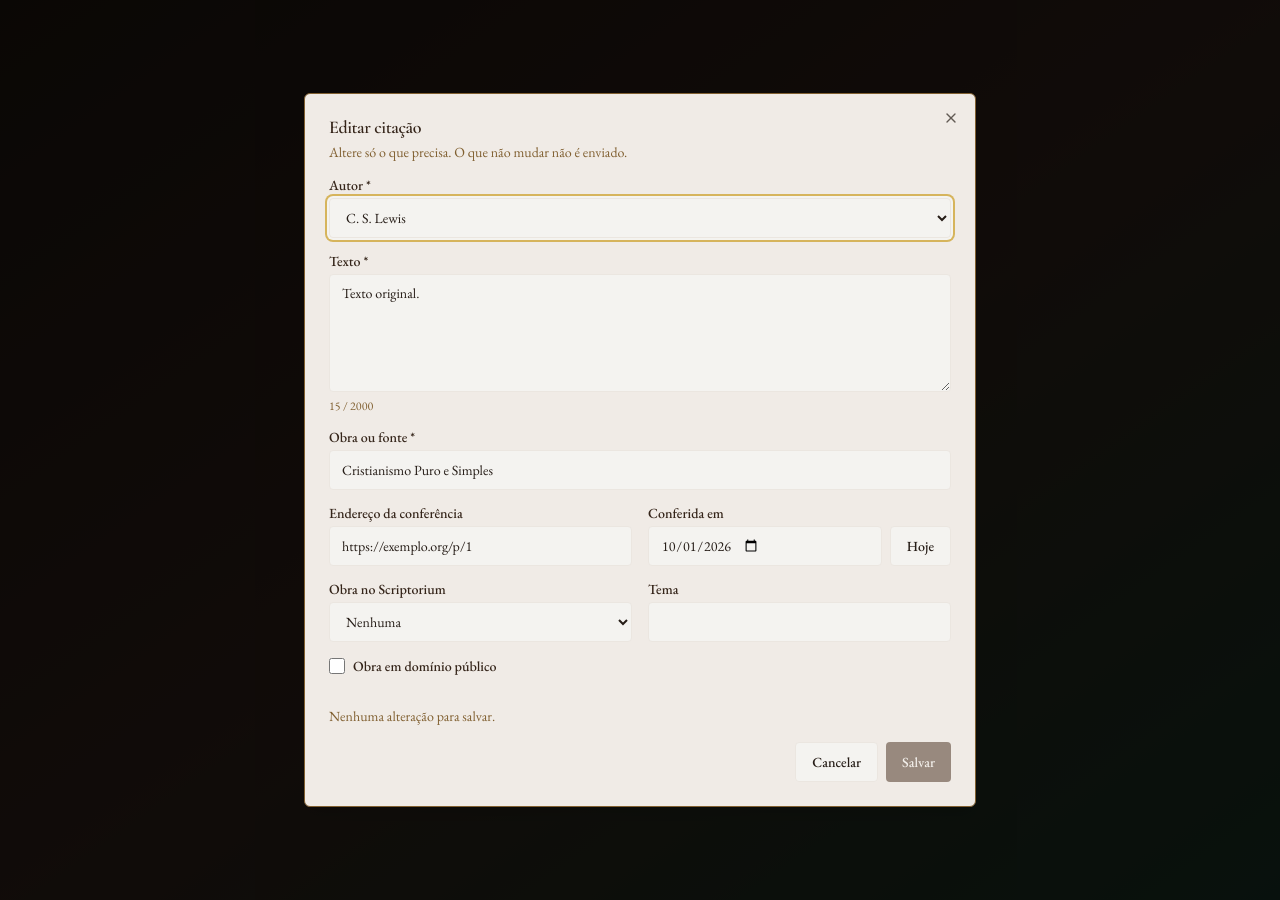
QuoteFormDialog: aviso do Gerador › editar uma Lewis ativa sem mexer em nada não avisa; mudar o texto avisa como "mudar"
The width and height of the screenshot is (1280, 900).
Type " a mais" into the text box labelled "Texto *" at point(640, 333), box [329,274,951,392]
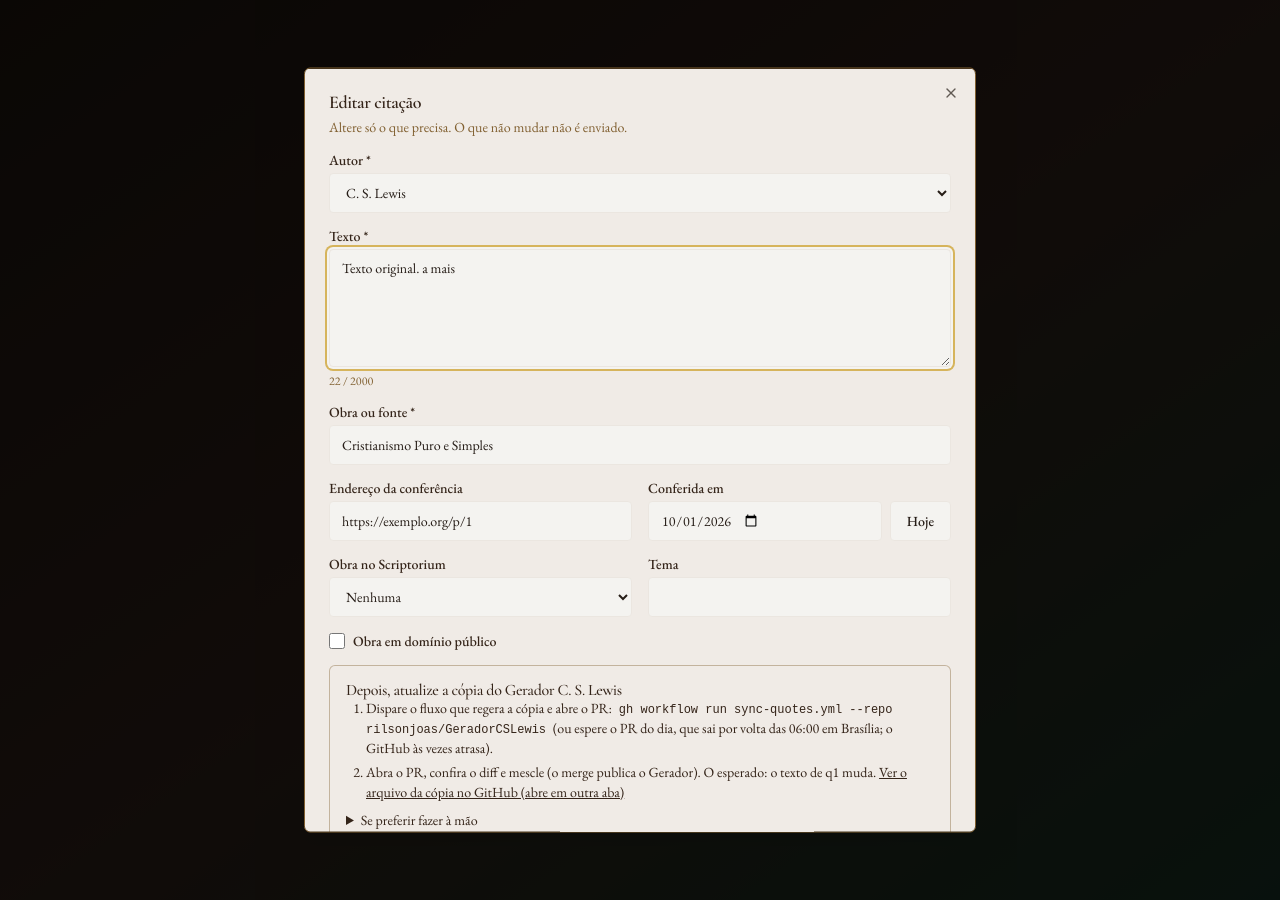
Now the text "Depois, atualize a cópia do Gerador C. S. Lewis" is shown, box [346,680,622,700]
Now the text "o texto de q1 muda" is shown, box [770,762,873,780]
